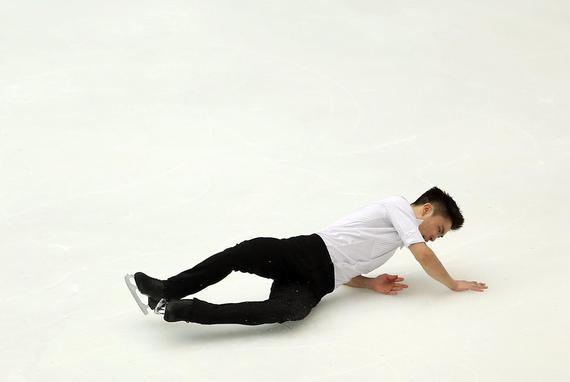Fall-Detected: (118, 171, 495, 340)
